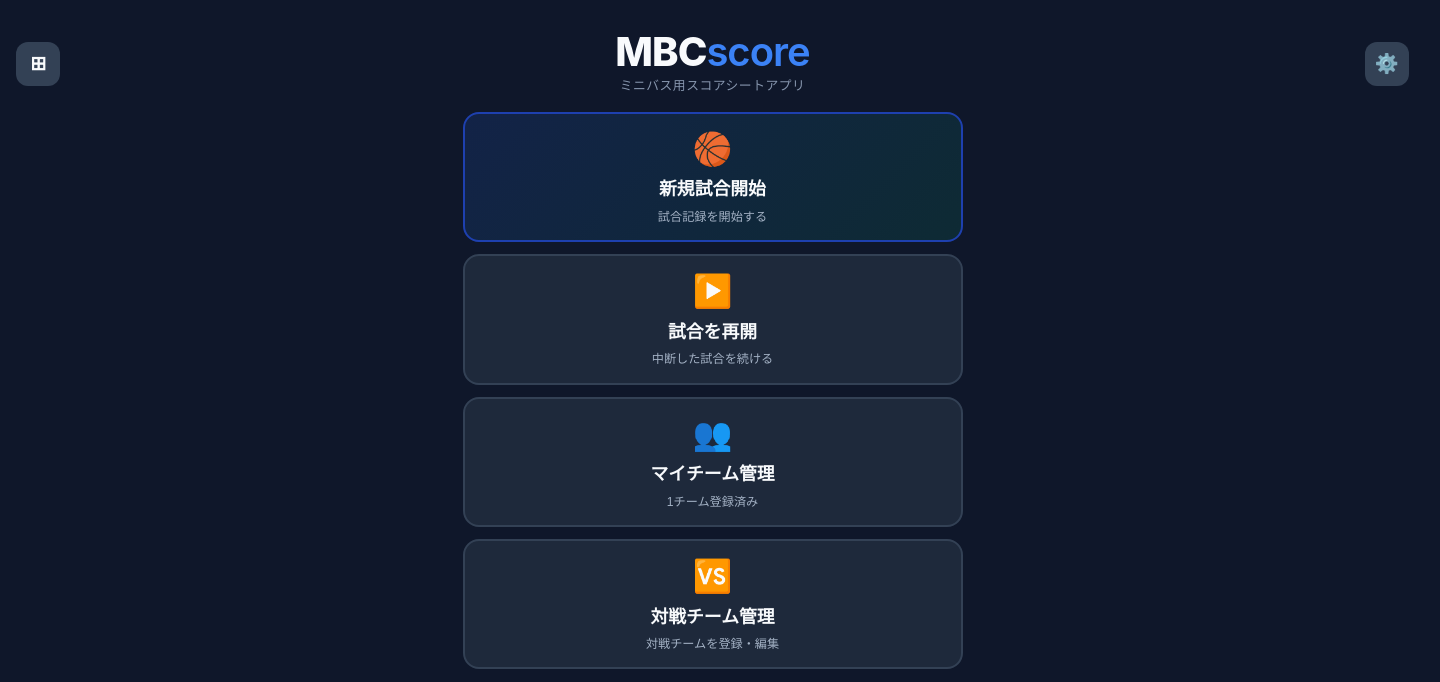
試合終了の確認モーダルの文言 › 止まるのは「新しい記録の追加」だと言う
Step 1. Click the text "試合を再開" → (713, 330), box x1=668 y1=317 x2=757 y2=343
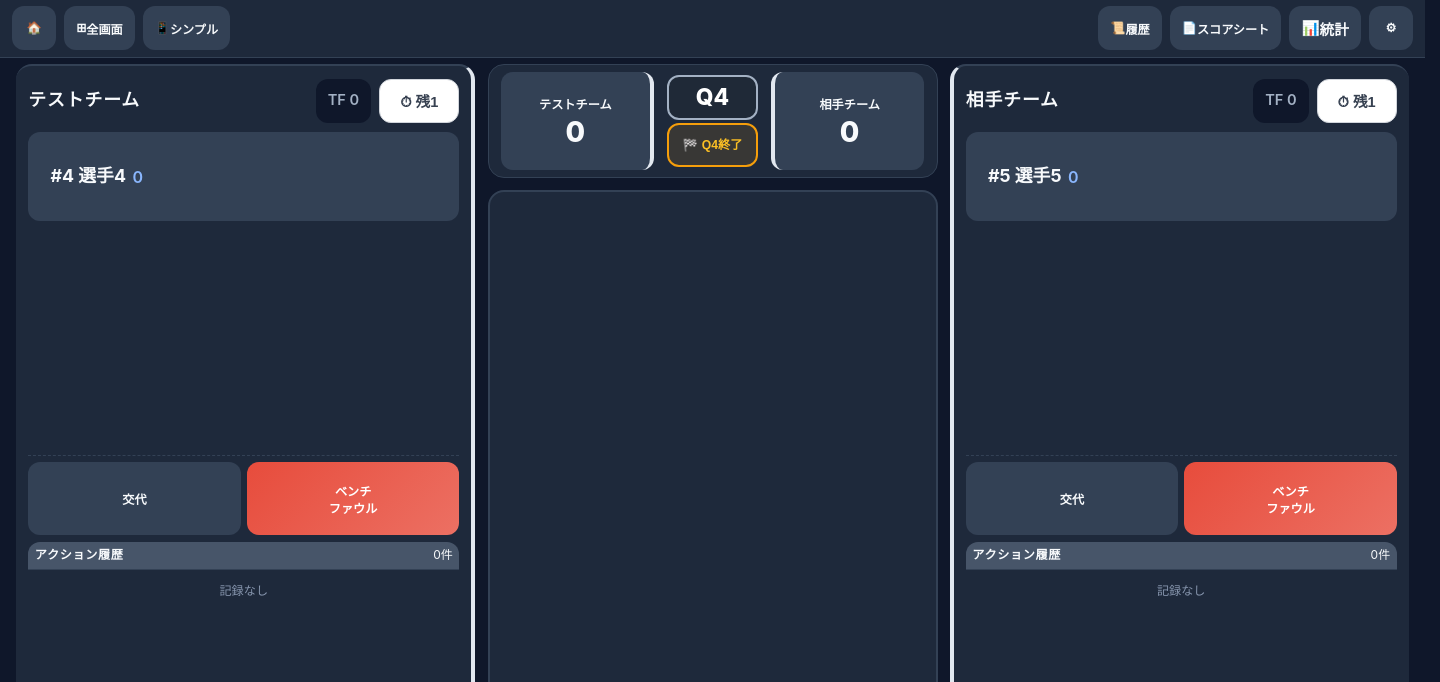
Step 2. Click the text "Q4終了" → (722, 145), box x1=702 y1=138 x2=742 y2=152
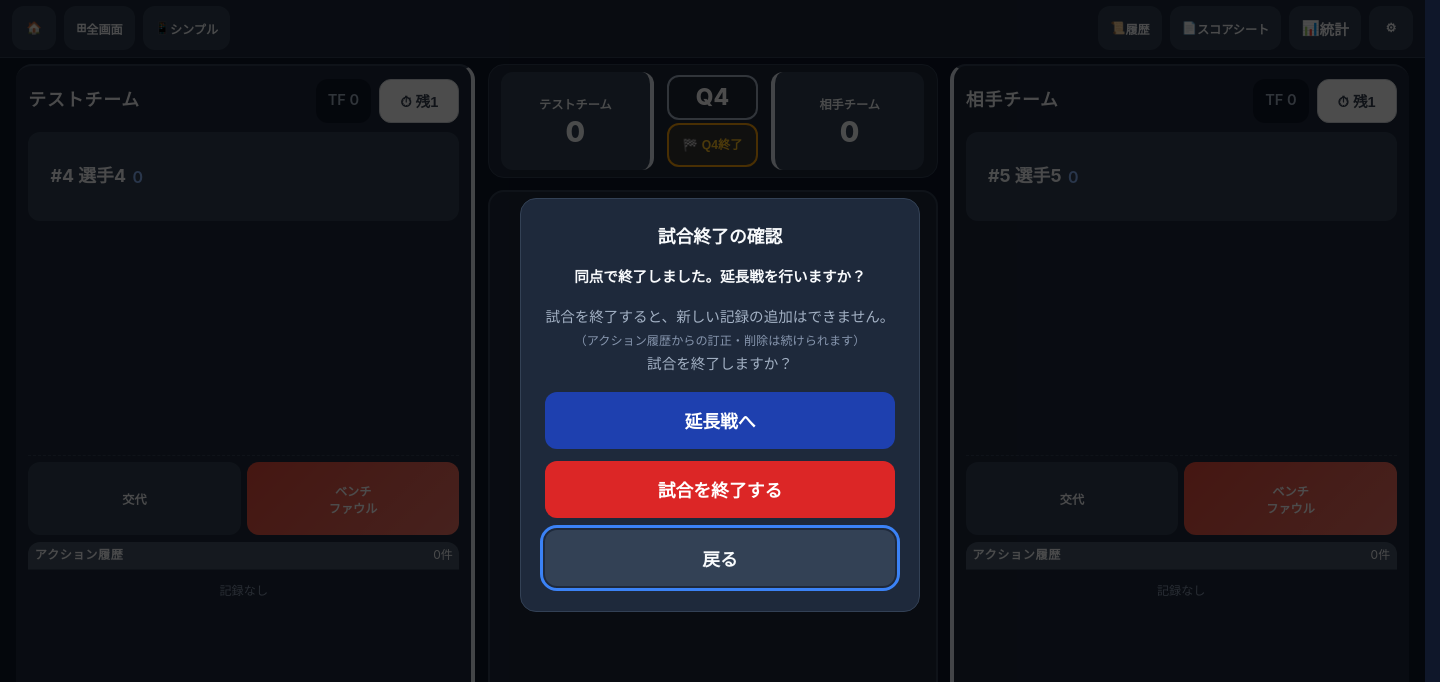
Expected: the text "試合を終了すると、新しい記録の追加はできません。（アクション履歴からの訂正・削除は続けられます）試合を終了しますか？" is shown, x1=545 y1=306 x2=895 y2=376
